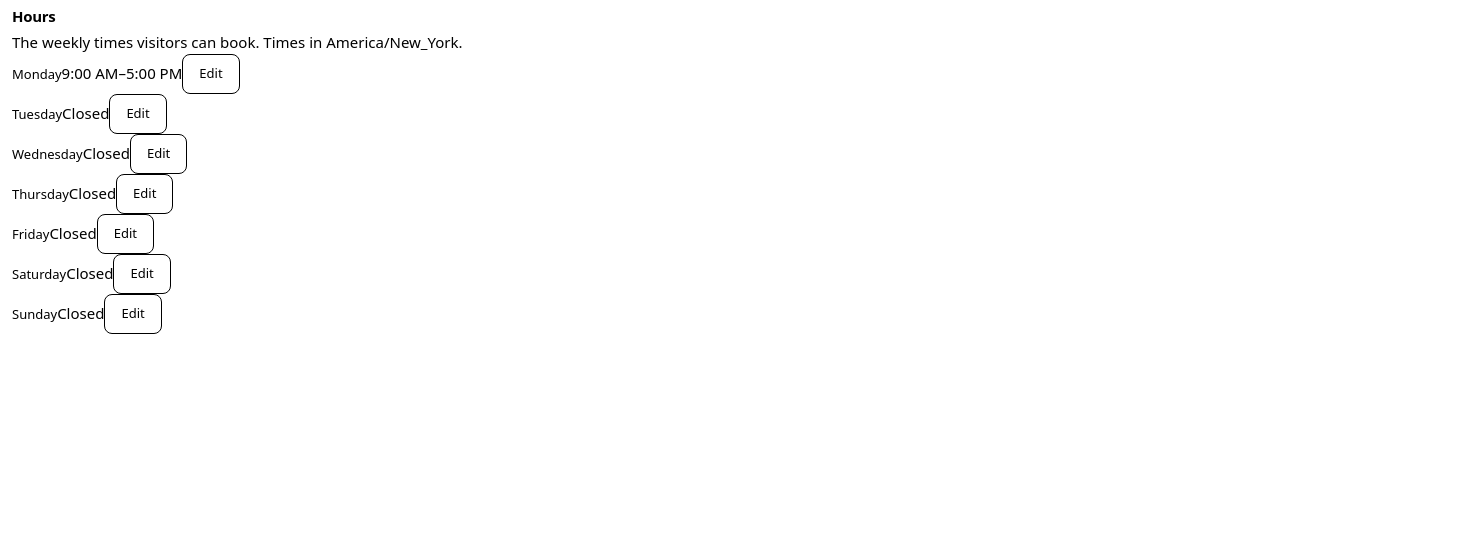
Scenario: HoursPage › keeps the editor open when saving fails
The image size is (1464, 556).
Click the button "Edit" in the row of "Monday" at (211, 74), box x1=182 y1=54 x2=240 y2=94
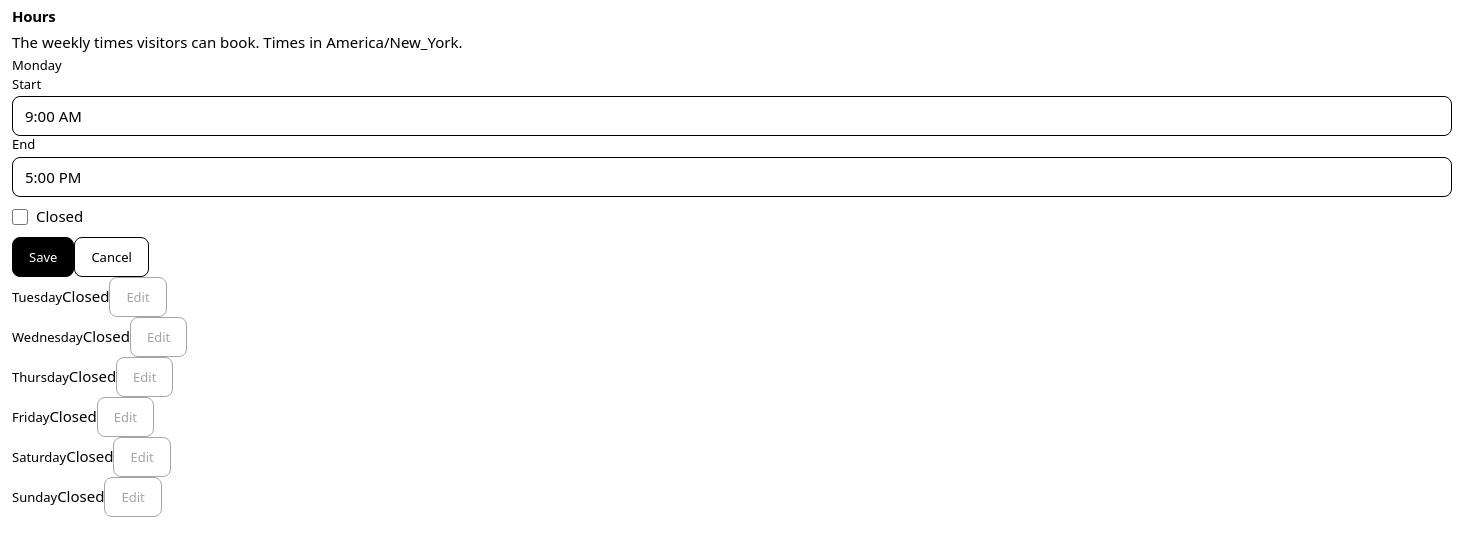
Click the button "Save" at (43, 257), box x1=12 y1=237 x2=74 y2=277
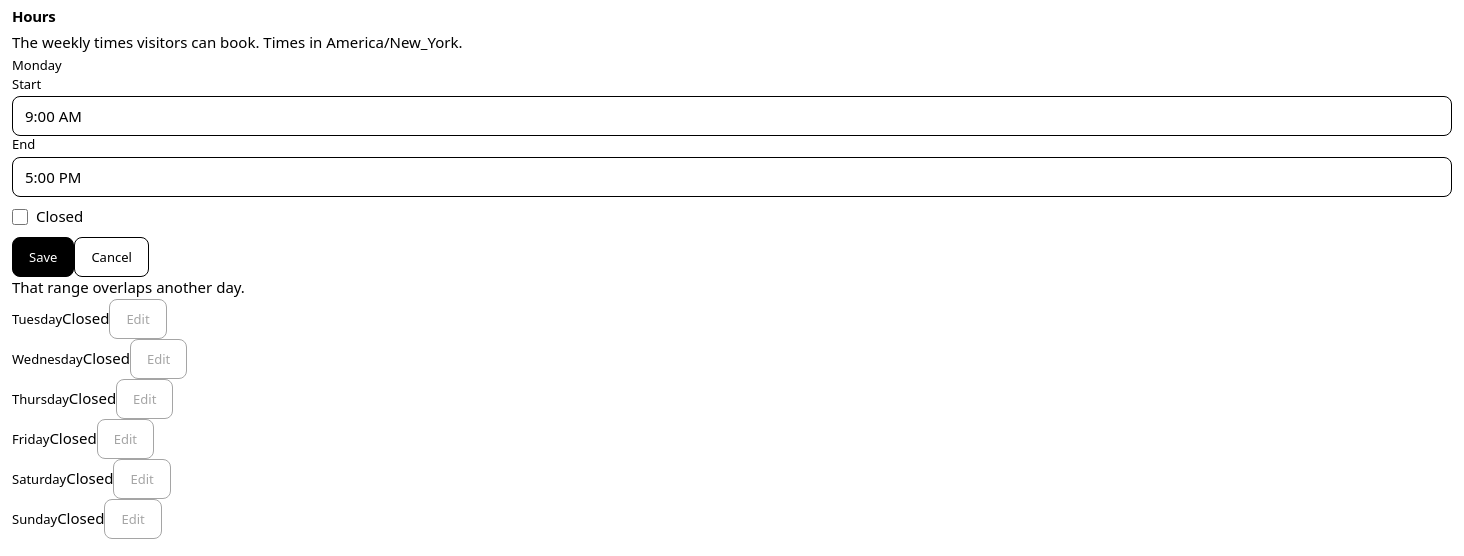
Result: the field labelled "Start" is enabled at x1=12 y1=96 x2=1452 y2=136
Result: the button "Save" is enabled at x1=12 y1=237 x2=74 y2=277
Result: the text "That range overlaps another day." is shown at x1=12 y1=277 x2=245 y2=297
